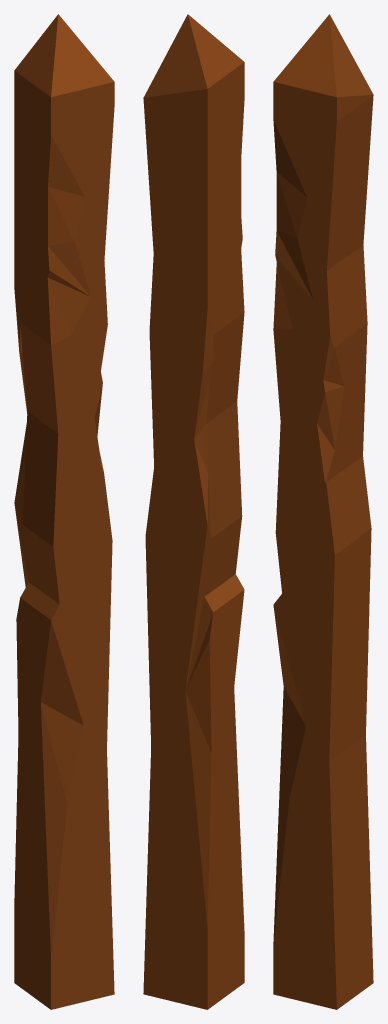
The model's file is Prop_Ruins_Wooden_Spike_Stake_01.FBX.
The picture shows the model from 3 angles, left to right: view 1: azimuth 30°, elevation 25°; view 2: azimuth 150°, elevation 25°; view 3: azimuth 330°, elevation 25°; orthographic projection.
Visible parts, largest first — view 1: Prop_Ruins_Wooden_Spike_Stake_01; view 2: Prop_Ruins_Wooden_Spike_Stake_01; view 3: Prop_Ruins_Wooden_Spike_Stake_01.
Boxes of the visible parts, x1,y1,x2,y2 form: Prop_Ruins_Wooden_Spike_Stake_01: (14,14,114,1009); Prop_Ruins_Wooden_Spike_Stake_01: (143,14,244,1009); Prop_Ruins_Wooden_Spike_Stake_01: (273,14,373,1009).
Bounding box in the file's own units: 179 × 2612 × 179.
